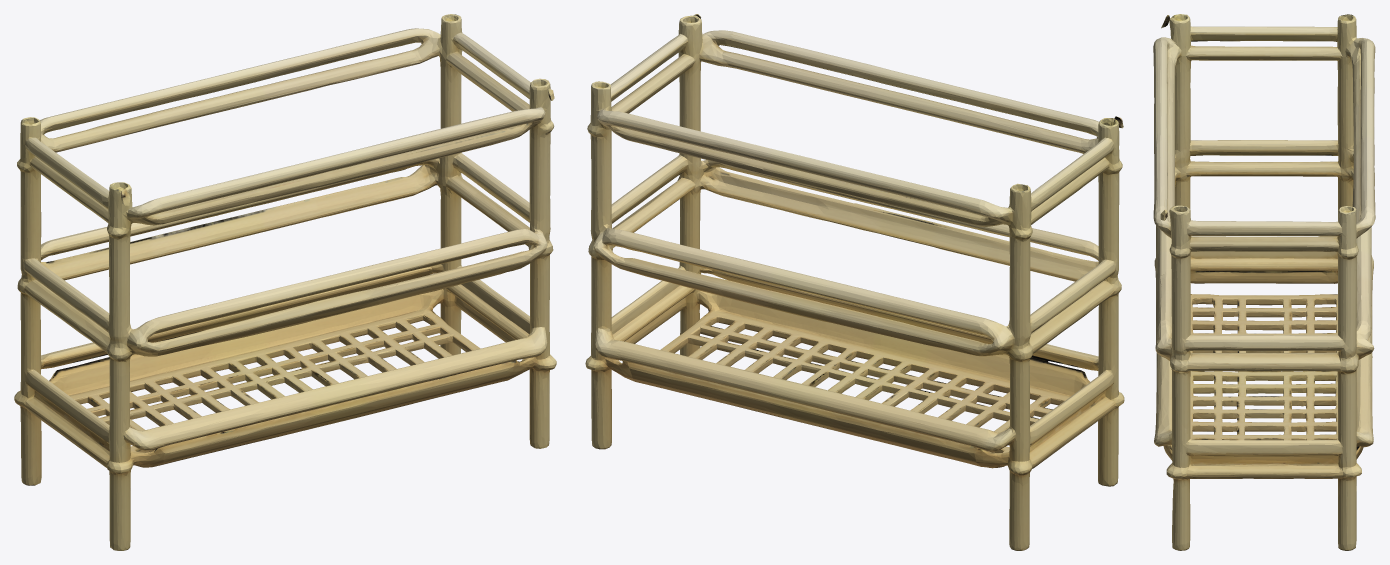
The picture shows the model from 3 angles, left to right: view 1: azimuth 30°, elevation 25°; view 2: azimuth 150°, elevation 25°; view 3: azimuth 270°, elevation 25°; orthographic projection. The views are drawn at different scales.
Visible parts, largest first — view 1: world; view 2: world; view 3: world.
Boxes of the visible parts, <box> form: world: <box>14,14,556,550</box>; world: <box>585,14,1124,550</box>; world: <box>1153,14,1375,550</box>.
Bounding box in the file's own units: 0.9992 × 0.7787 × 0.4618.
1 material, 1 textured.
